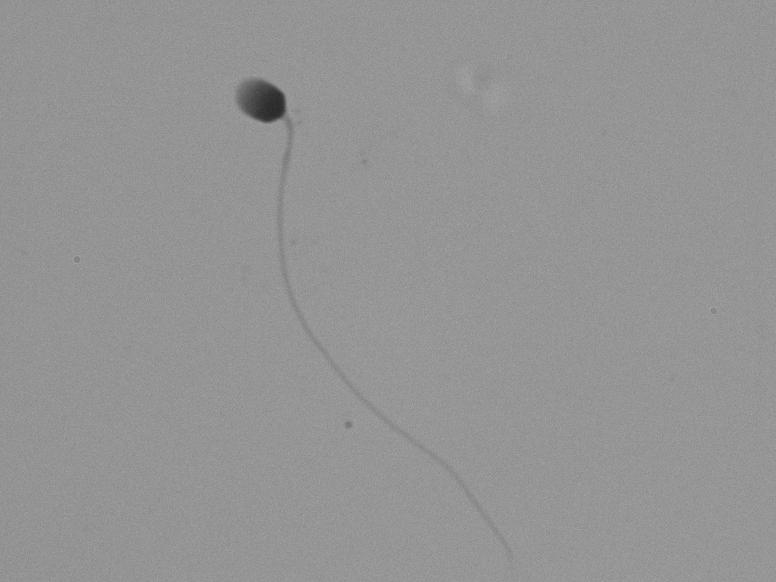Normal: (156, 58, 519, 547)
